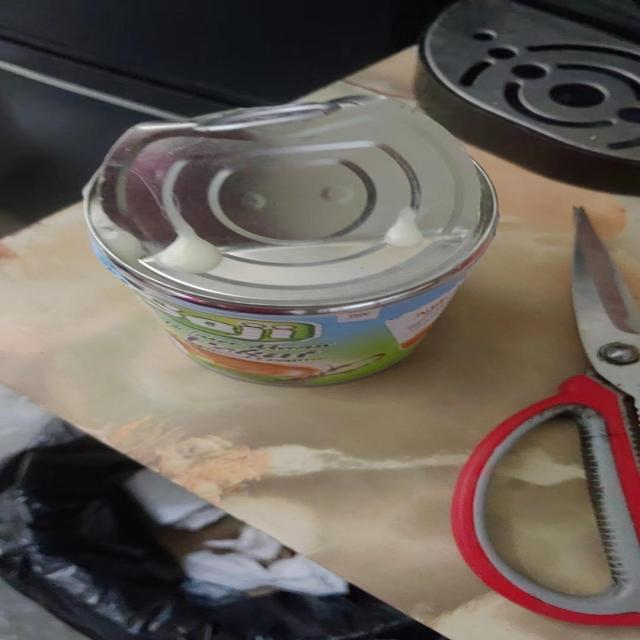can: (87, 91, 500, 387)
pop tab: (192, 97, 355, 132)
